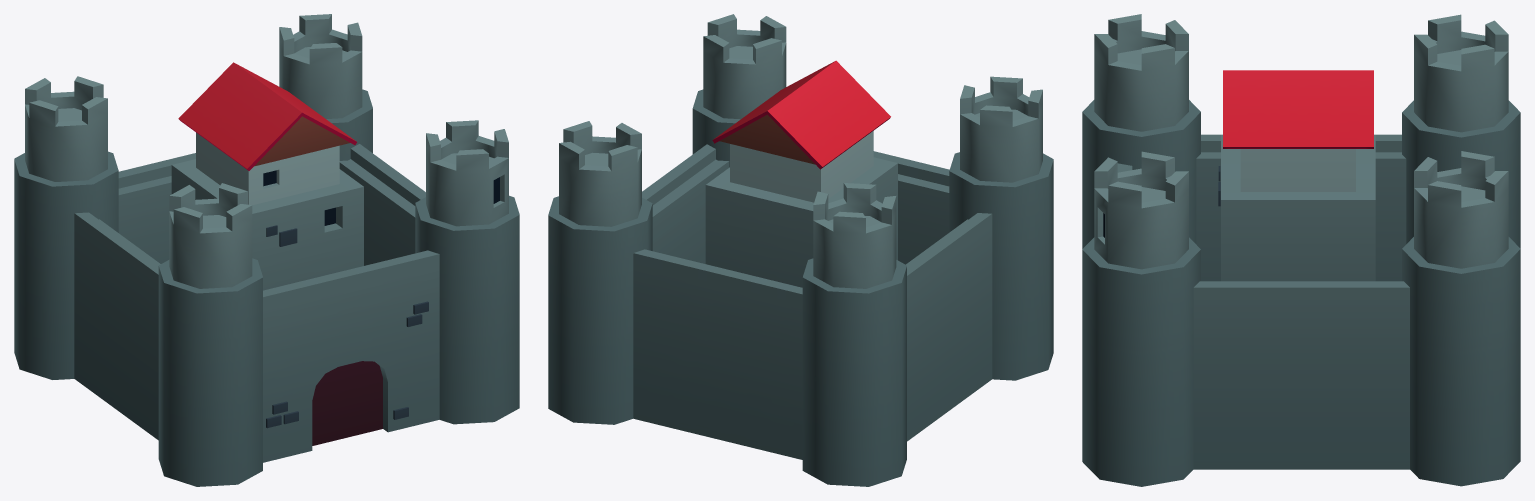
The model's file is building_castle.fbx.
The picture shows the model from 3 angles, left to right: view 1: azimuth 30°, elevation 25°; view 2: azimuth 150°, elevation 25°; view 3: azimuth 270°, elevation 25°; orthographic projection. The views are drawn at different scales.
Parts seen in each view (by area): view 1: Cube, Cube.002; view 2: Cube; view 3: Cube.
Boxes of the visible parts, left/top/right/bottom form: Cube: left=14, top=14, right=519, bottom=486; Cube.002: left=312, top=361, right=382, bottom=445; Cube: left=548, top=14, right=1053, bottom=486; Cube: left=1082, top=14, right=1520, bottom=486.
Size of the model in its own units: 472 by 379 by 466.
